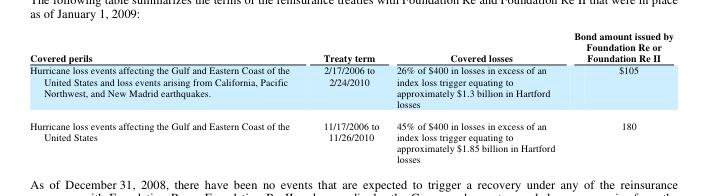table: (29, 29, 673, 164)
table column: (29, 29, 305, 164), (387, 29, 563, 164), (563, 29, 673, 164), (305, 29, 387, 164)
table column header: (29, 29, 673, 52)
table row: (29, 63, 673, 114), (29, 114, 673, 164), (29, 29, 673, 52), (29, 52, 673, 63)
